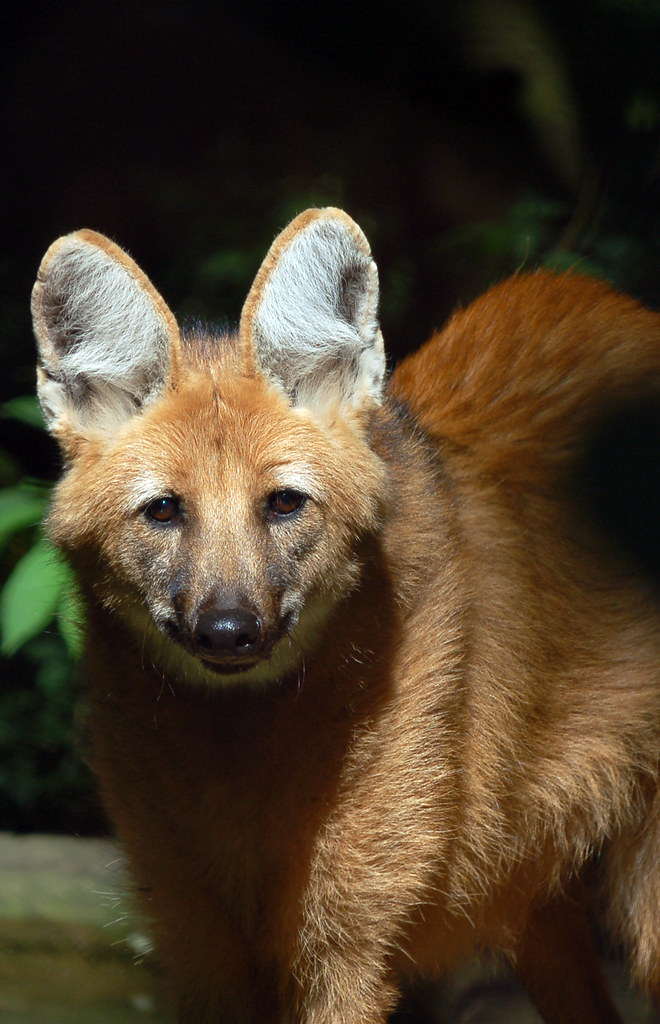LoboGuara: (25, 185, 646, 1019)
